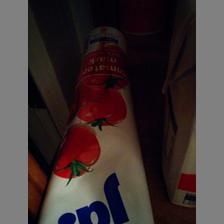Tomatensauce: (37, 41, 154, 224)
